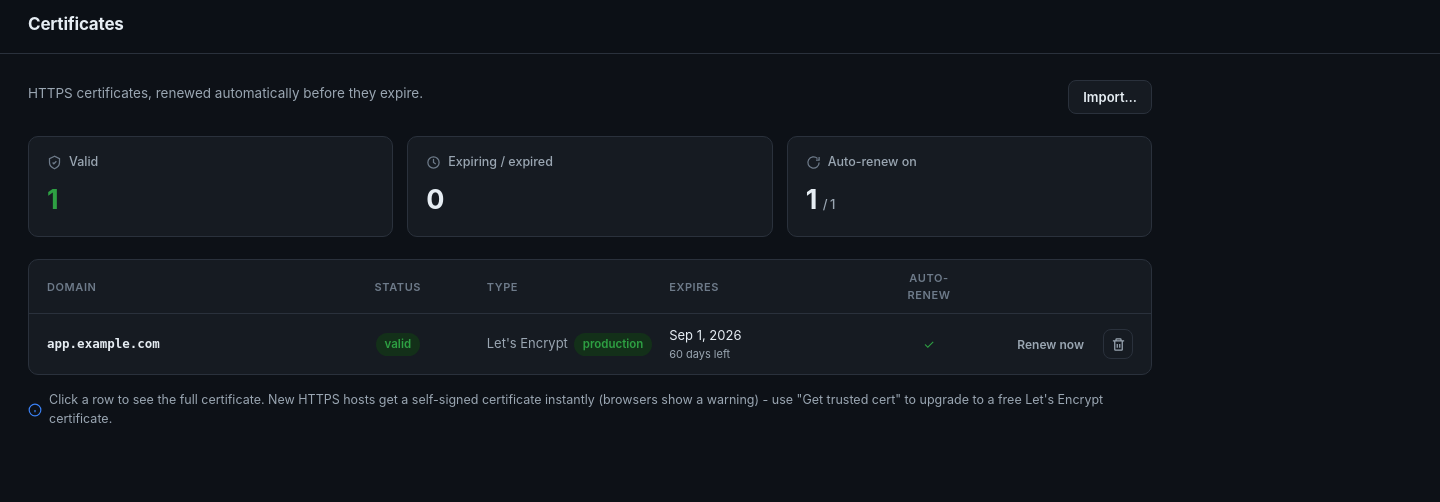
Test: Certificates page › surfaces a failed renewal in a role=alert banner
Expected: the text "app.example.com" is shown, [47,336,160,351]
Click the button "Renew now". click: (1051, 344)
box: [1006,331,1095,358]
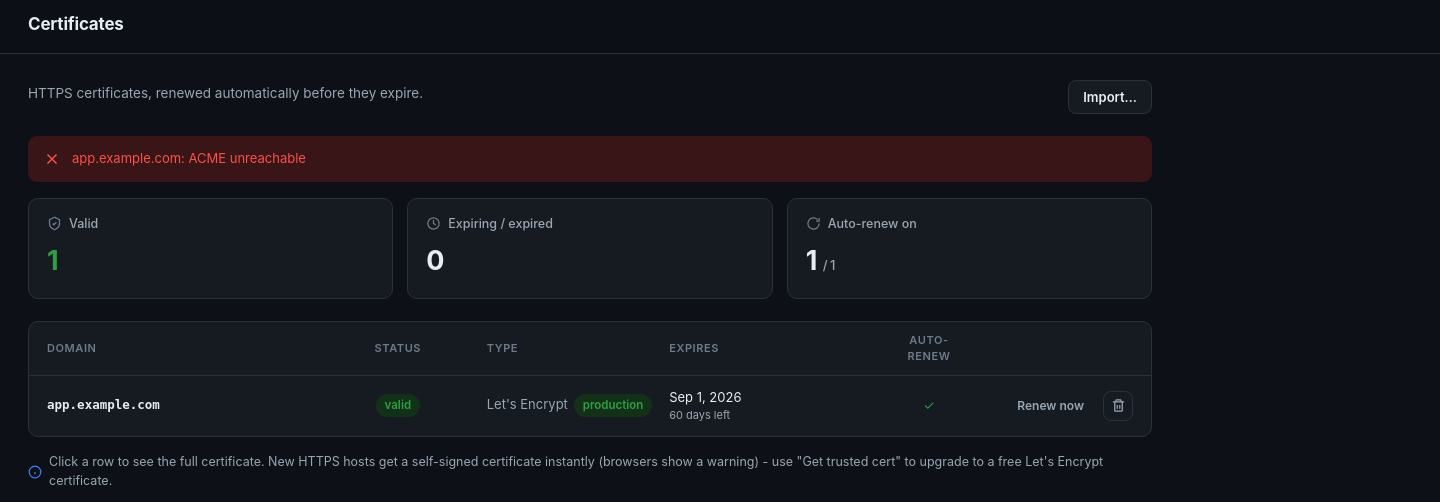
Now the message shows "ACME unreachable", box [72,150,306,166]
